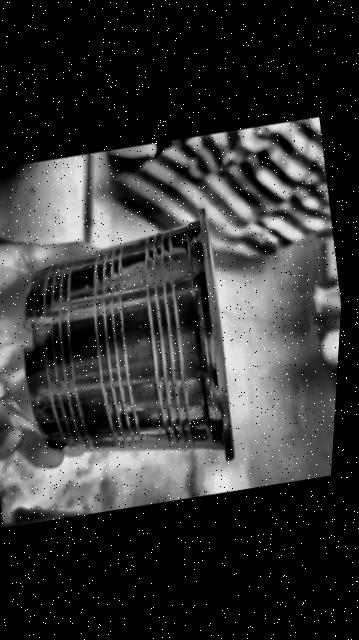pot: (22, 210, 231, 460)
